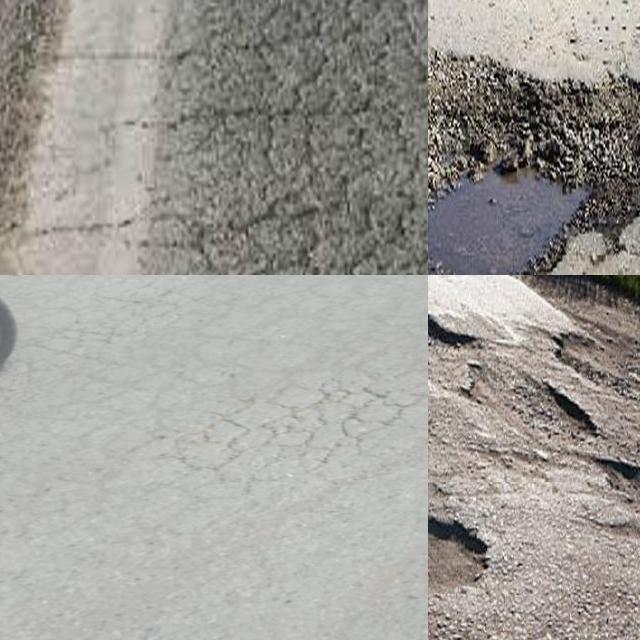Lubang: (428, 53, 640, 275), (469, 360, 585, 442)
Retak Buaya: (172, 0, 428, 275), (142, 375, 400, 505)
